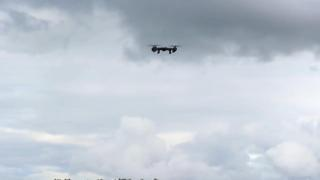UAV: (148, 43, 181, 55)
